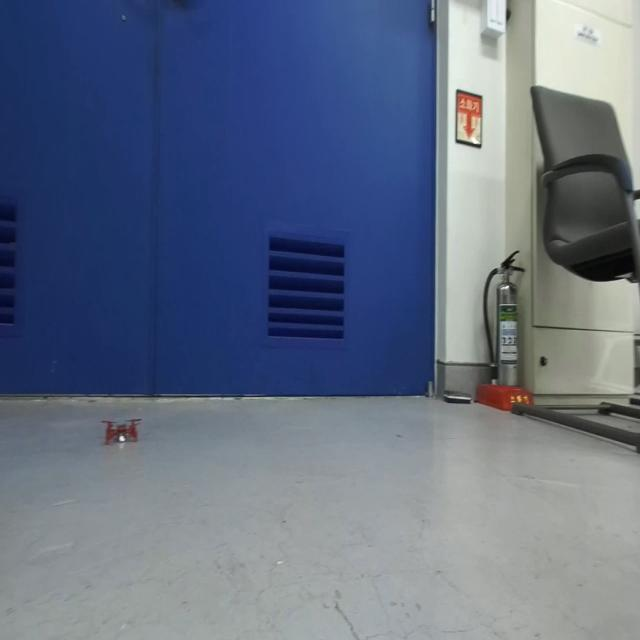crazyflie: (99, 413, 144, 452)
